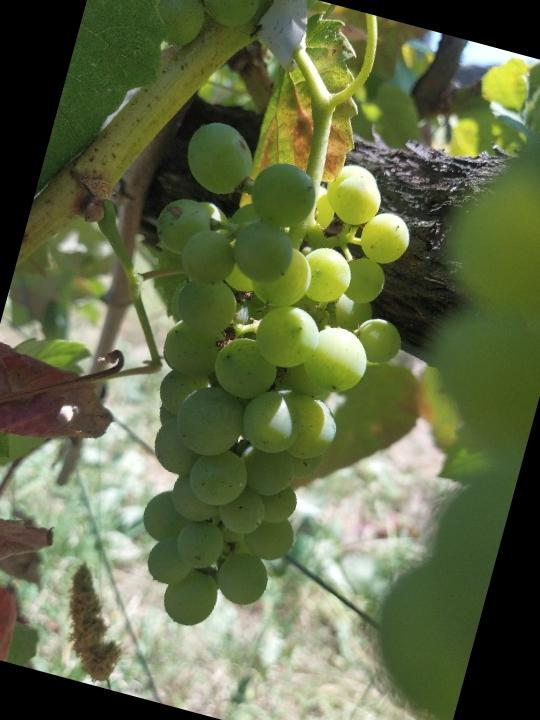grape: (54, 108, 448, 664)
